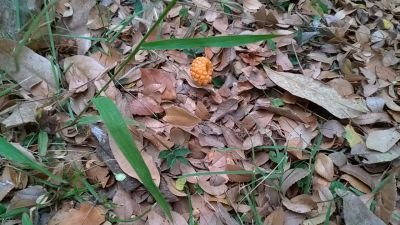eggs: (187, 52, 217, 86)
